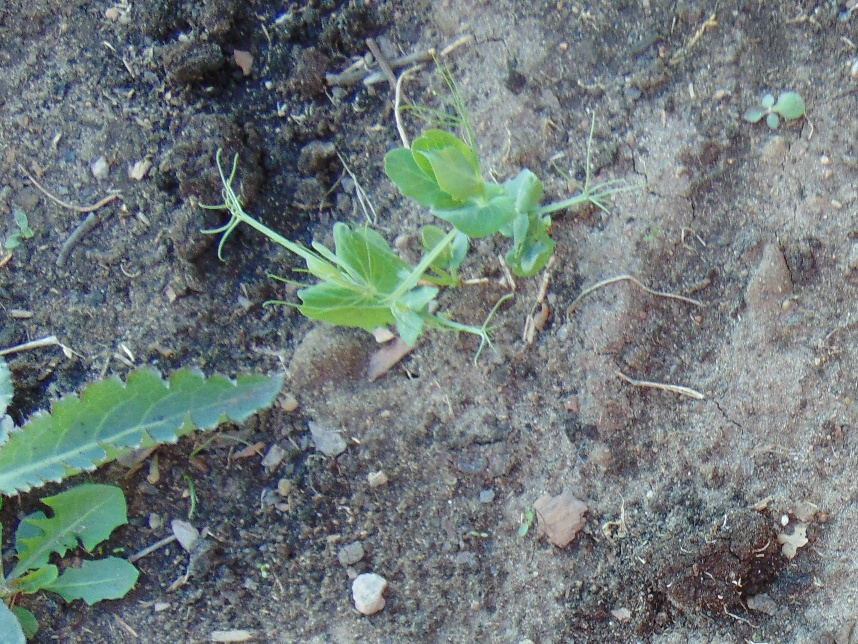crop: (219, 162, 500, 352), (333, 65, 614, 255)
weed: (1, 352, 279, 498), (1, 483, 140, 644), (743, 88, 804, 127), (3, 209, 34, 248)
